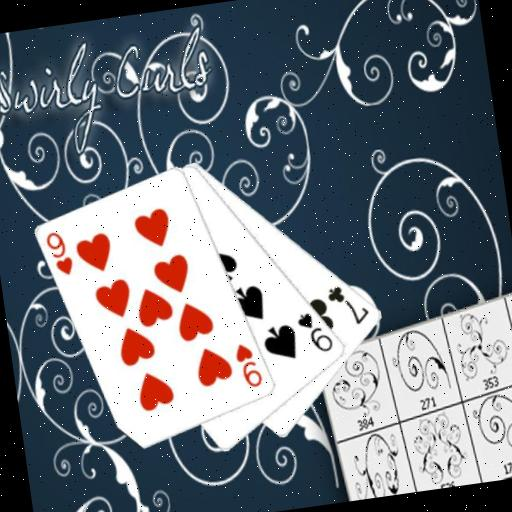7C: (324, 279, 373, 330)
9H: (231, 338, 266, 391), (42, 228, 76, 280)
9S: (293, 307, 336, 358)
